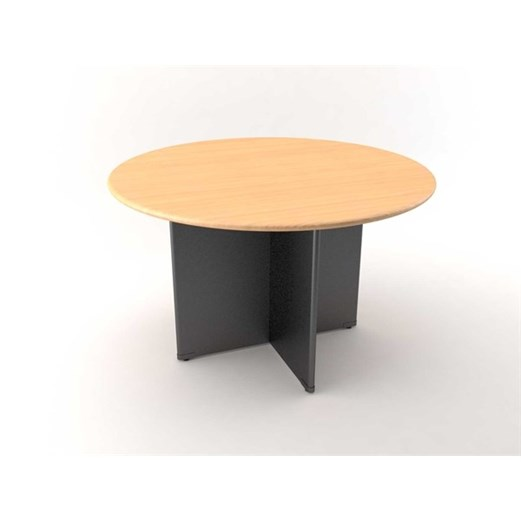Carving Table: (101, 132, 441, 401)
